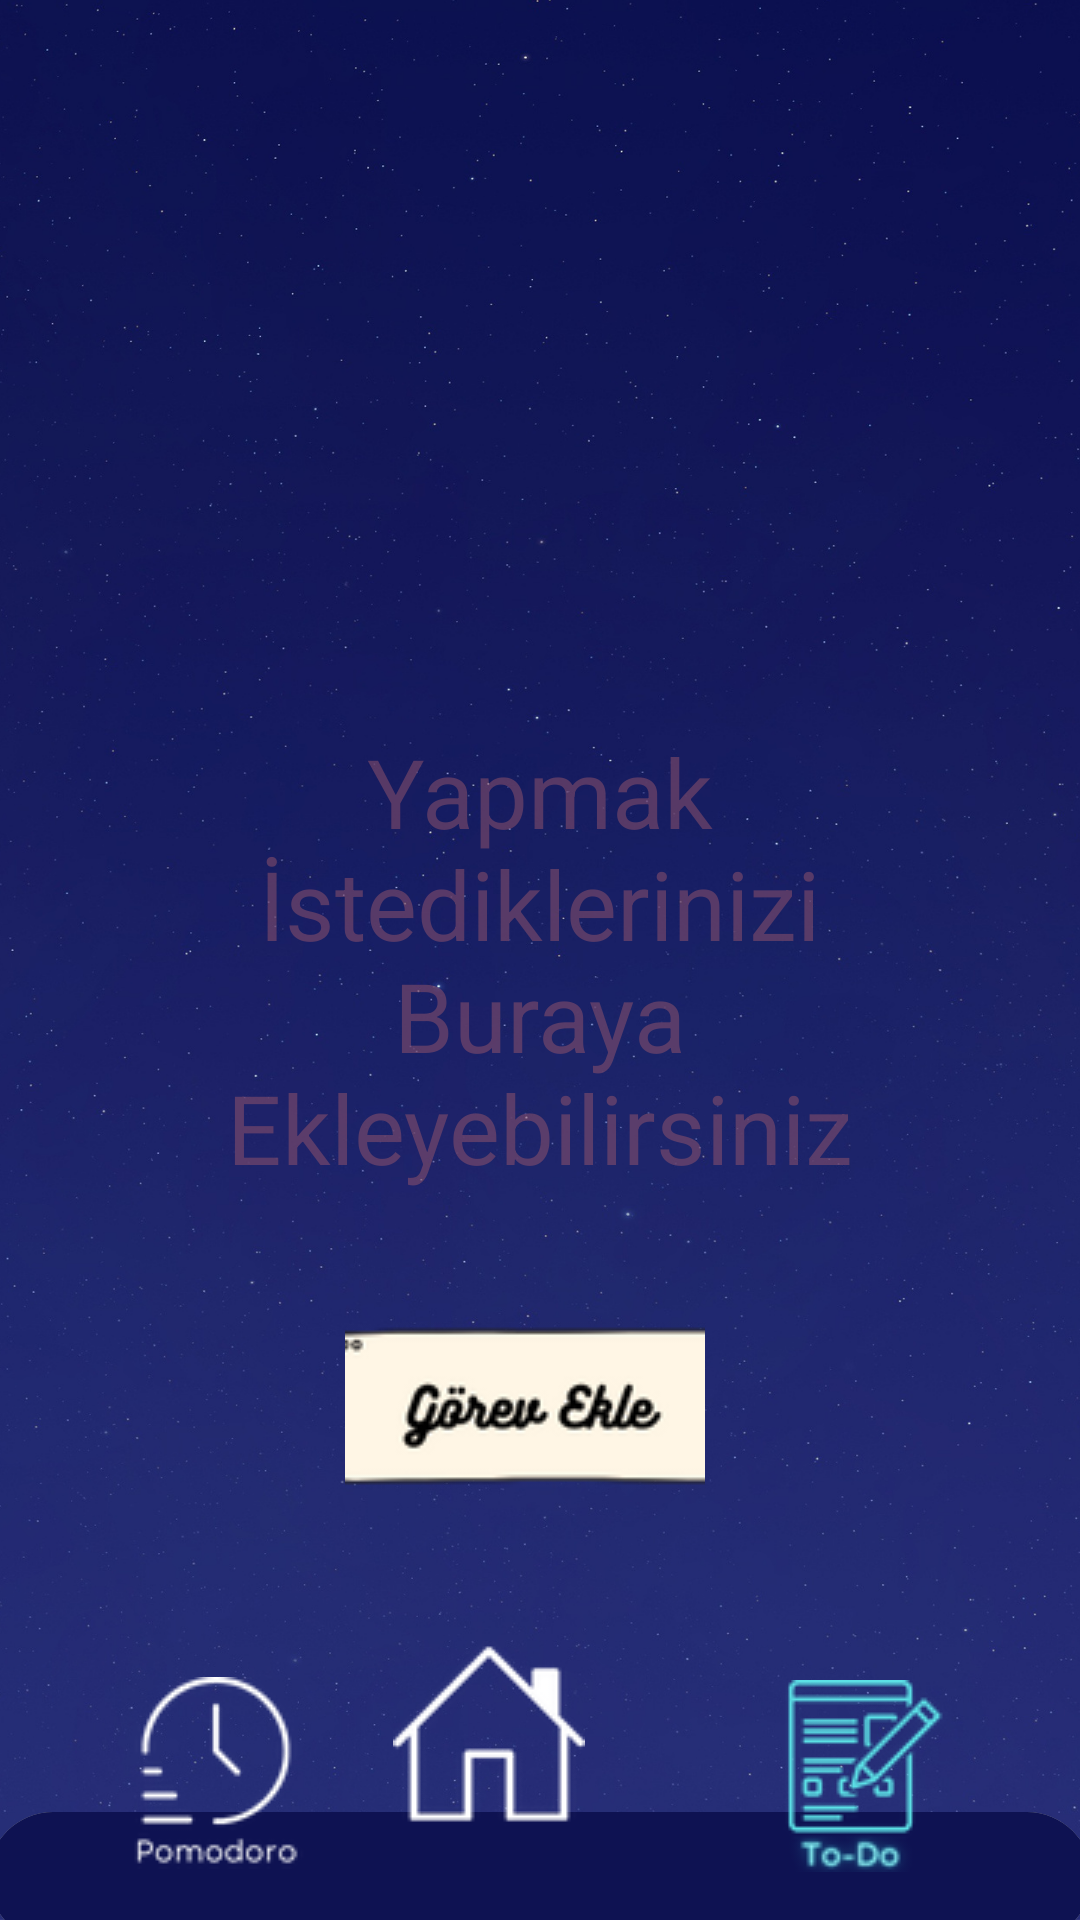

Screen size 1080px×1920px. Icon name, then its box in pixels as bbox(x1, y1, x2, y2):
home: bbox(393, 1643, 585, 1830)
